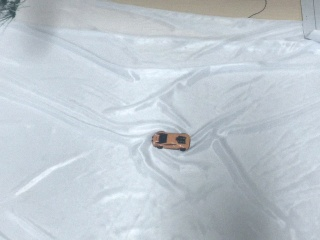toy_car: (152, 130, 191, 151)
